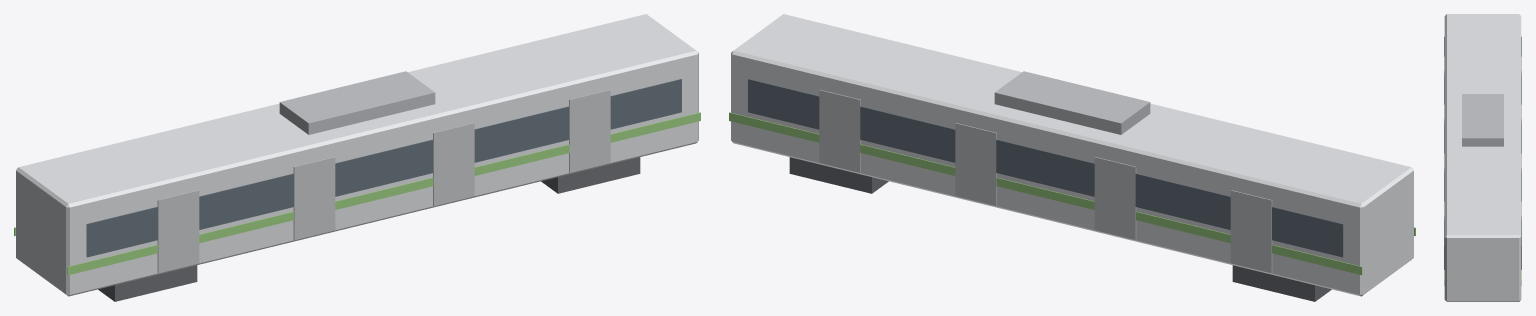
Rendered from train.glb.
The picture shows the model from 3 angles, left to right: view 1: azimuth 30°, elevation 25°; view 2: azimuth 150°, elevation 25°; view 3: azimuth 270°, elevation 25°; orthographic projection. The views are drawn at different scales.
Parts seen in each view (by area): view 1: body, windows-1, roofUnit, stripeR, door-1-2.2, door-1-6.5, door-16.5, door-12.2, bogie-7.0, bogie7.0; view 2: body, windows1, roofUnit, stripeL, door1-2.2, door1-6.5, door16.5, door12.2, bogie-7.0, bogie7.0; view 3: body, roofUnit, windows1, windows-1.
Boxes of the visible parts, x1,y1,x2,y2 form: body: [16, 14, 698, 296]; windows-1: [86, 79, 681, 257]; roofUnit: [279, 71, 435, 134]; stripeR: [67, 112, 700, 275]; door-1-2.2: [293, 157, 335, 239]; door-1-6.5: [157, 190, 199, 273]; door-16.5: [569, 89, 610, 172]; door-12.2: [433, 123, 474, 205]; bogie-7.0: [98, 265, 197, 301]; bogie7.0: [541, 157, 640, 193]; body: [731, 14, 1413, 296]; windows1: [748, 79, 1343, 257]; roofUnit: [994, 71, 1150, 134]; stripeL: [729, 112, 1362, 275]; door1-2.2: [1094, 157, 1136, 239]; door1-6.5: [1230, 190, 1272, 273]; door16.5: [819, 89, 860, 172]; door12.2: [955, 123, 996, 205]; bogie-7.0: [1232, 265, 1331, 301]; bogie7.0: [789, 157, 888, 193]; body: [1444, 14, 1521, 301]; roofUnit: [1462, 94, 1503, 146]; windows1: [1521, 36, 1521, 269]; windows-1: [1444, 36, 1444, 269].
Bounding box in the file's own units: 20 × 3.8 × 2.95.
